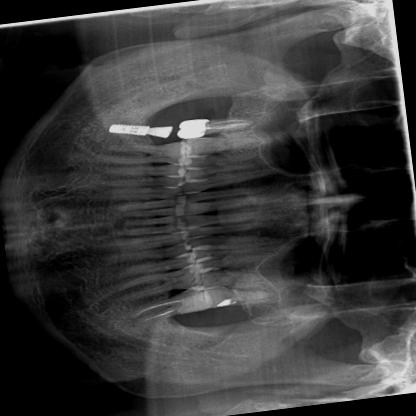ITI: (105, 121, 153, 138)
